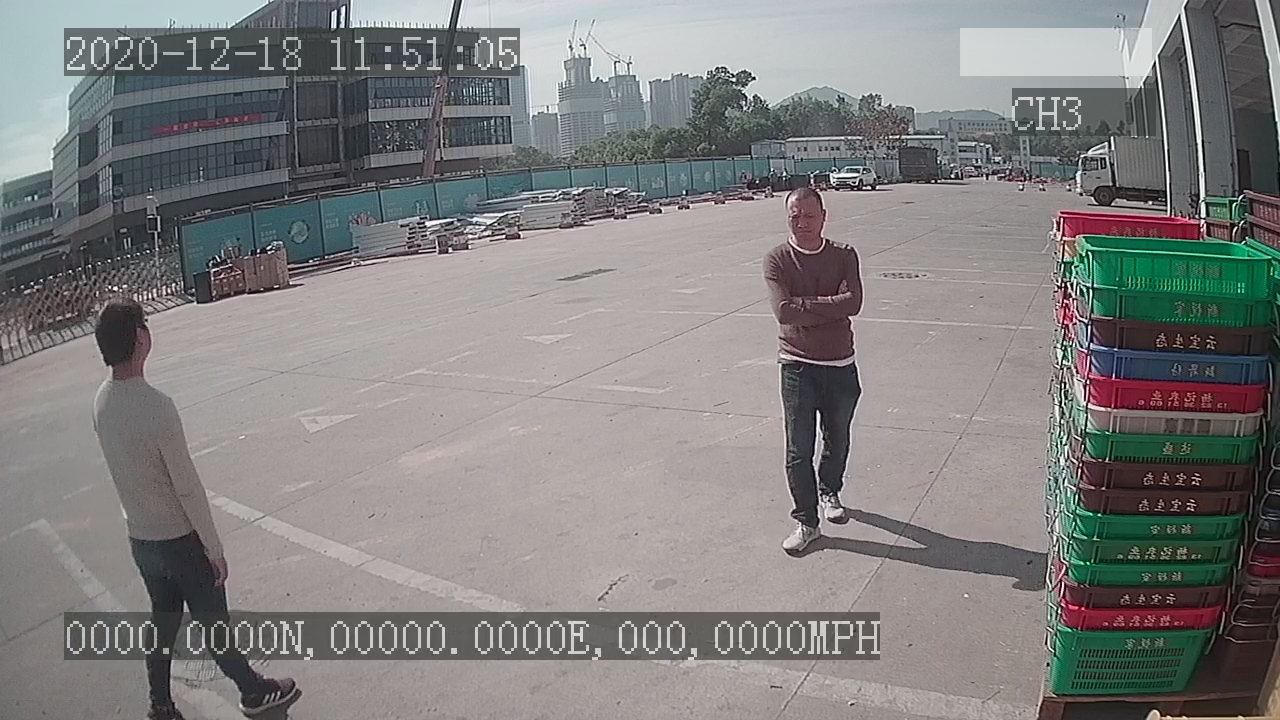person: (754, 183, 872, 560)
